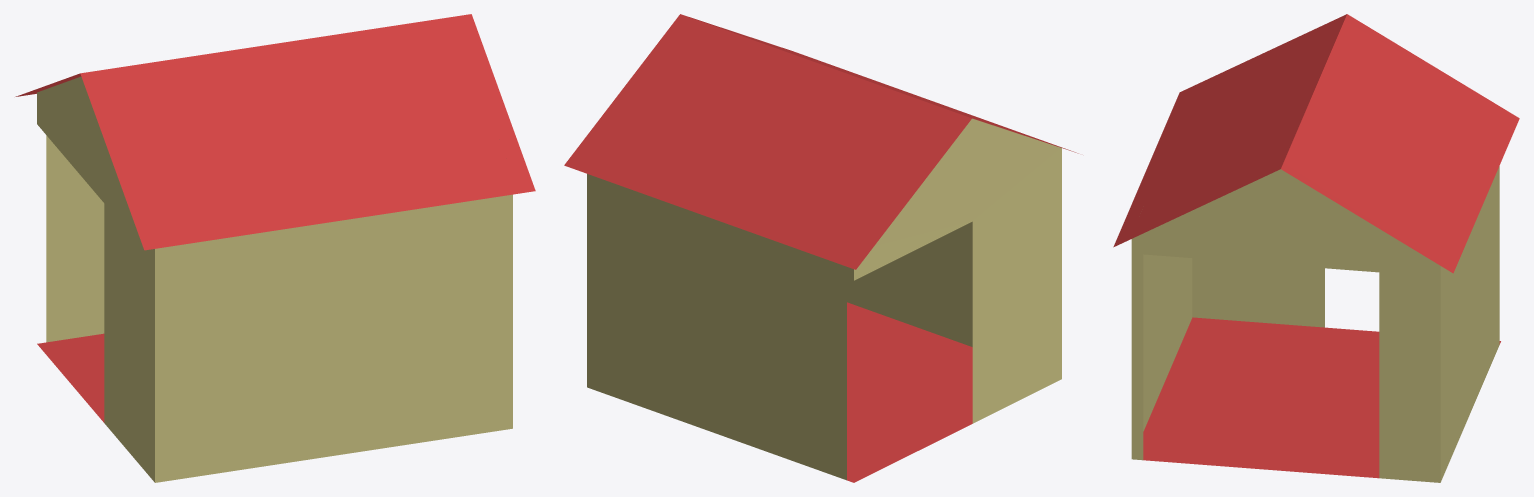
3 renders of one model, left to right at view 1: azimuth 30°, elevation 25°; view 2: azimuth 150°, elevation 25°; view 3: azimuth 270°, elevation 25°, orthographic. The views are drawn at different scales.
Size of the model in its own units: 13.48 by 12.79 by 10.7.
